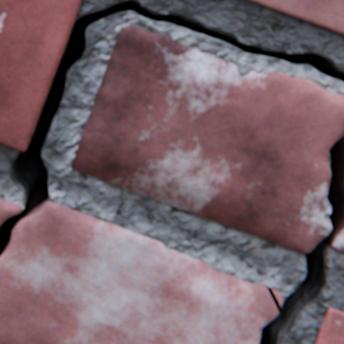brick: (0, 0, 81, 150), (247, 0, 343, 34), (314, 307, 343, 343)
broken_brick: (72, 25, 343, 251), (0, 199, 277, 343), (0, 197, 22, 223), (271, 287, 283, 305), (332, 232, 343, 251)
crack: (0, 0, 343, 255), (258, 131, 343, 343)
